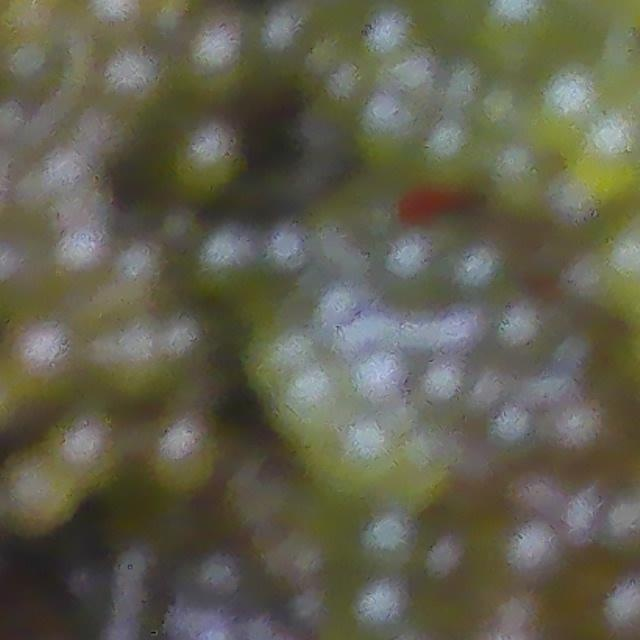SeaGrape: (11, 441, 62, 520), (160, 320, 223, 382), (155, 421, 209, 491), (74, 414, 123, 487), (541, 412, 611, 460), (502, 525, 567, 576)
